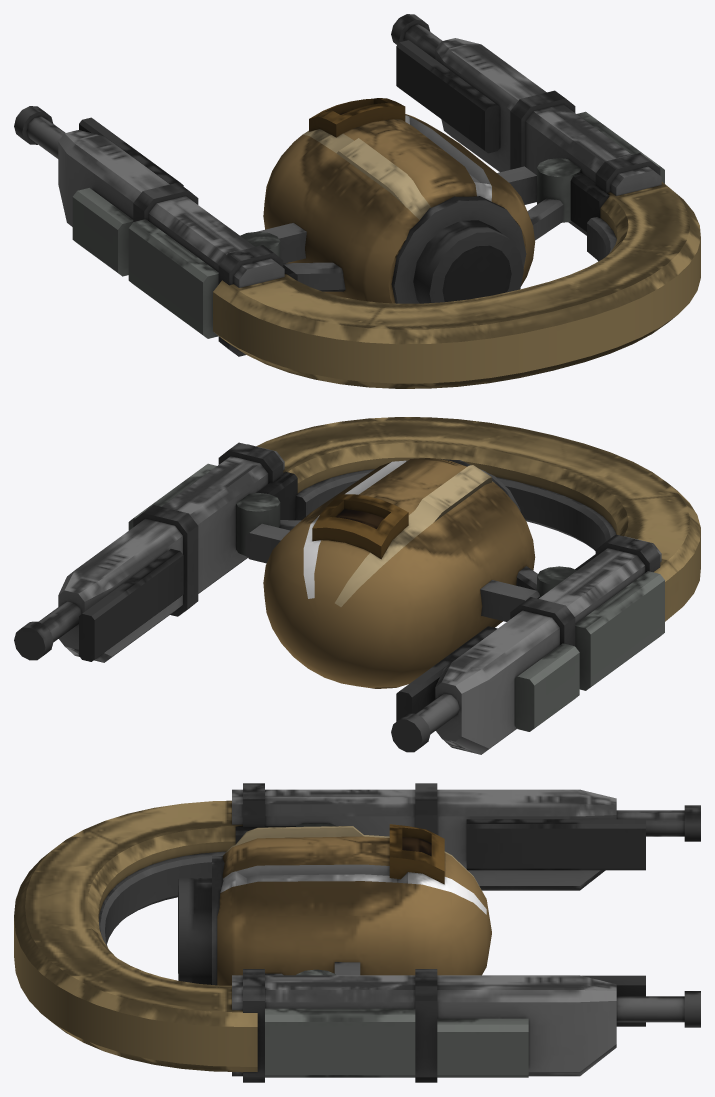
File: ship-u-ship.glb
3 views of the same model, one above another, from view 1: azimuth 30°, elevation 25°; view 2: azimuth 150°, elevation 25°; view 3: azimuth 270°, elevation 25° (orthographic).
Parts seen in each view (by area): view 1: ship-u-ship; view 2: ship-u-ship; view 3: ship-u-ship.
Boxes of the visible parts, x1,y1,x2,y2 form: ship-u-ship: (14, 14, 700, 388); ship-u-ship: (14, 417, 700, 754); ship-u-ship: (14, 783, 700, 1082).
Size of the model in its own units: 1.22 by 0.4604 by 1.56.
Materials: 13 (13 with a texture image).
